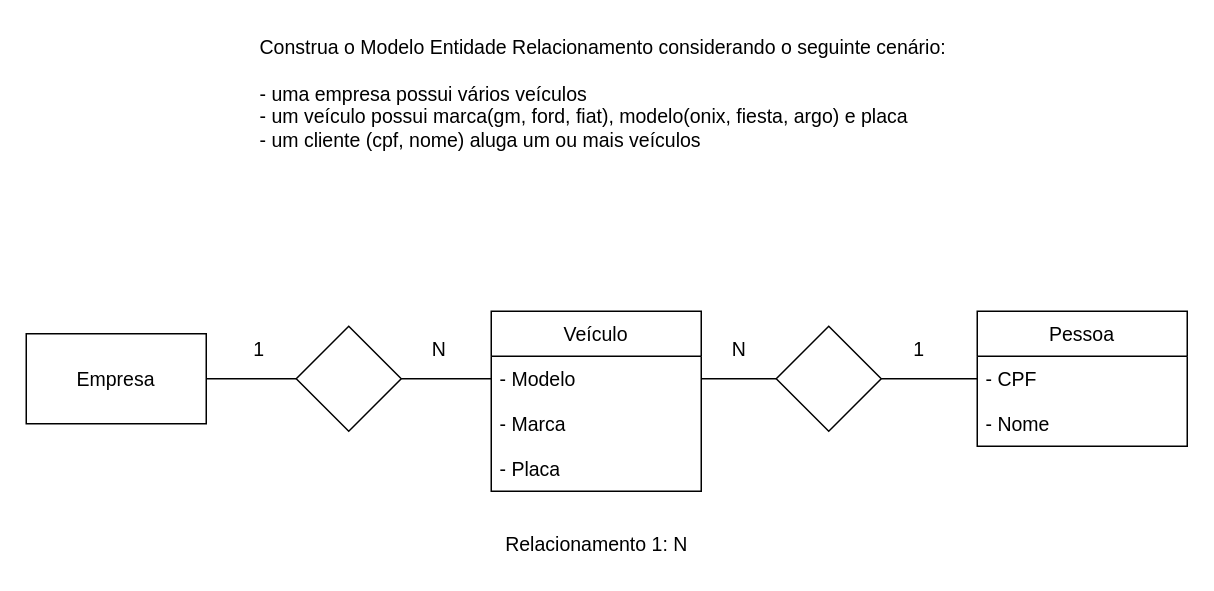
Some shapes in this 1214 by 591 pixel diagram are drawn without their labels. Here are the shapes that lost their labels. From the top down, the centre of each, then its label:
At [348,378]: "Possui".
At [828,378]: "Aluga".
